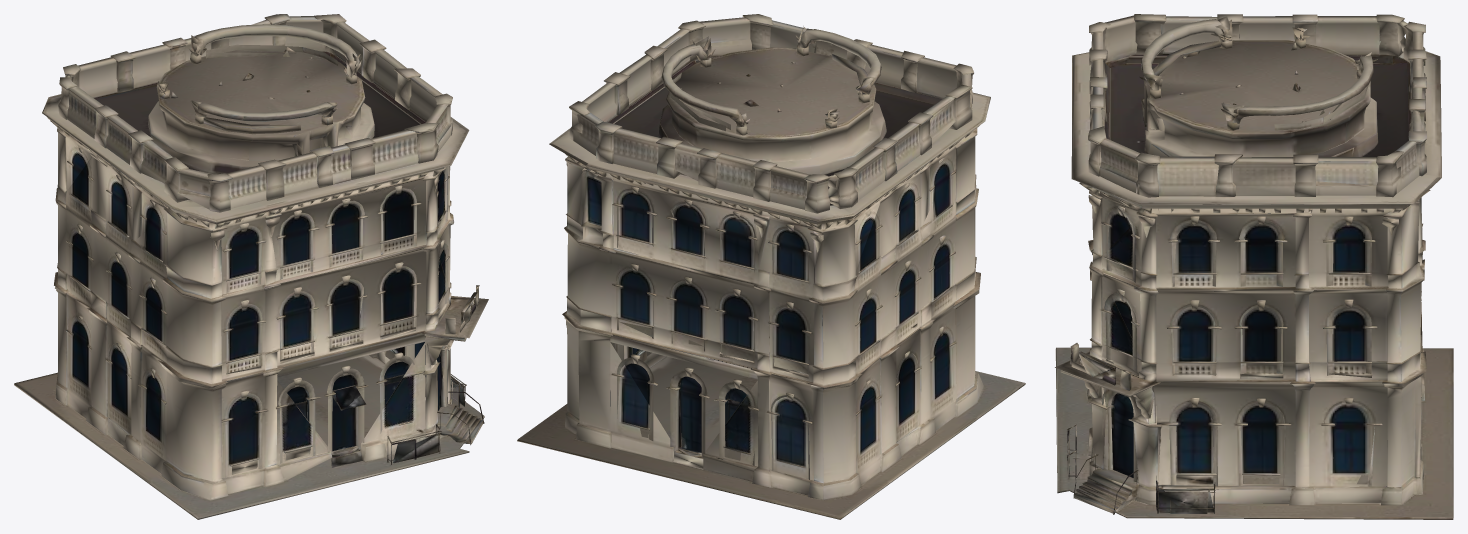
3 renders of one model, left to right at view 1: azimuth 30°, elevation 25°; view 2: azimuth 150°, elevation 25°; view 3: azimuth 270°, elevation 25°, orthographic. The views are drawn at different scales.
Size of the model in its own units: 0.9385 by 0.9482 by 0.9205.
1 material, 1 textured.
